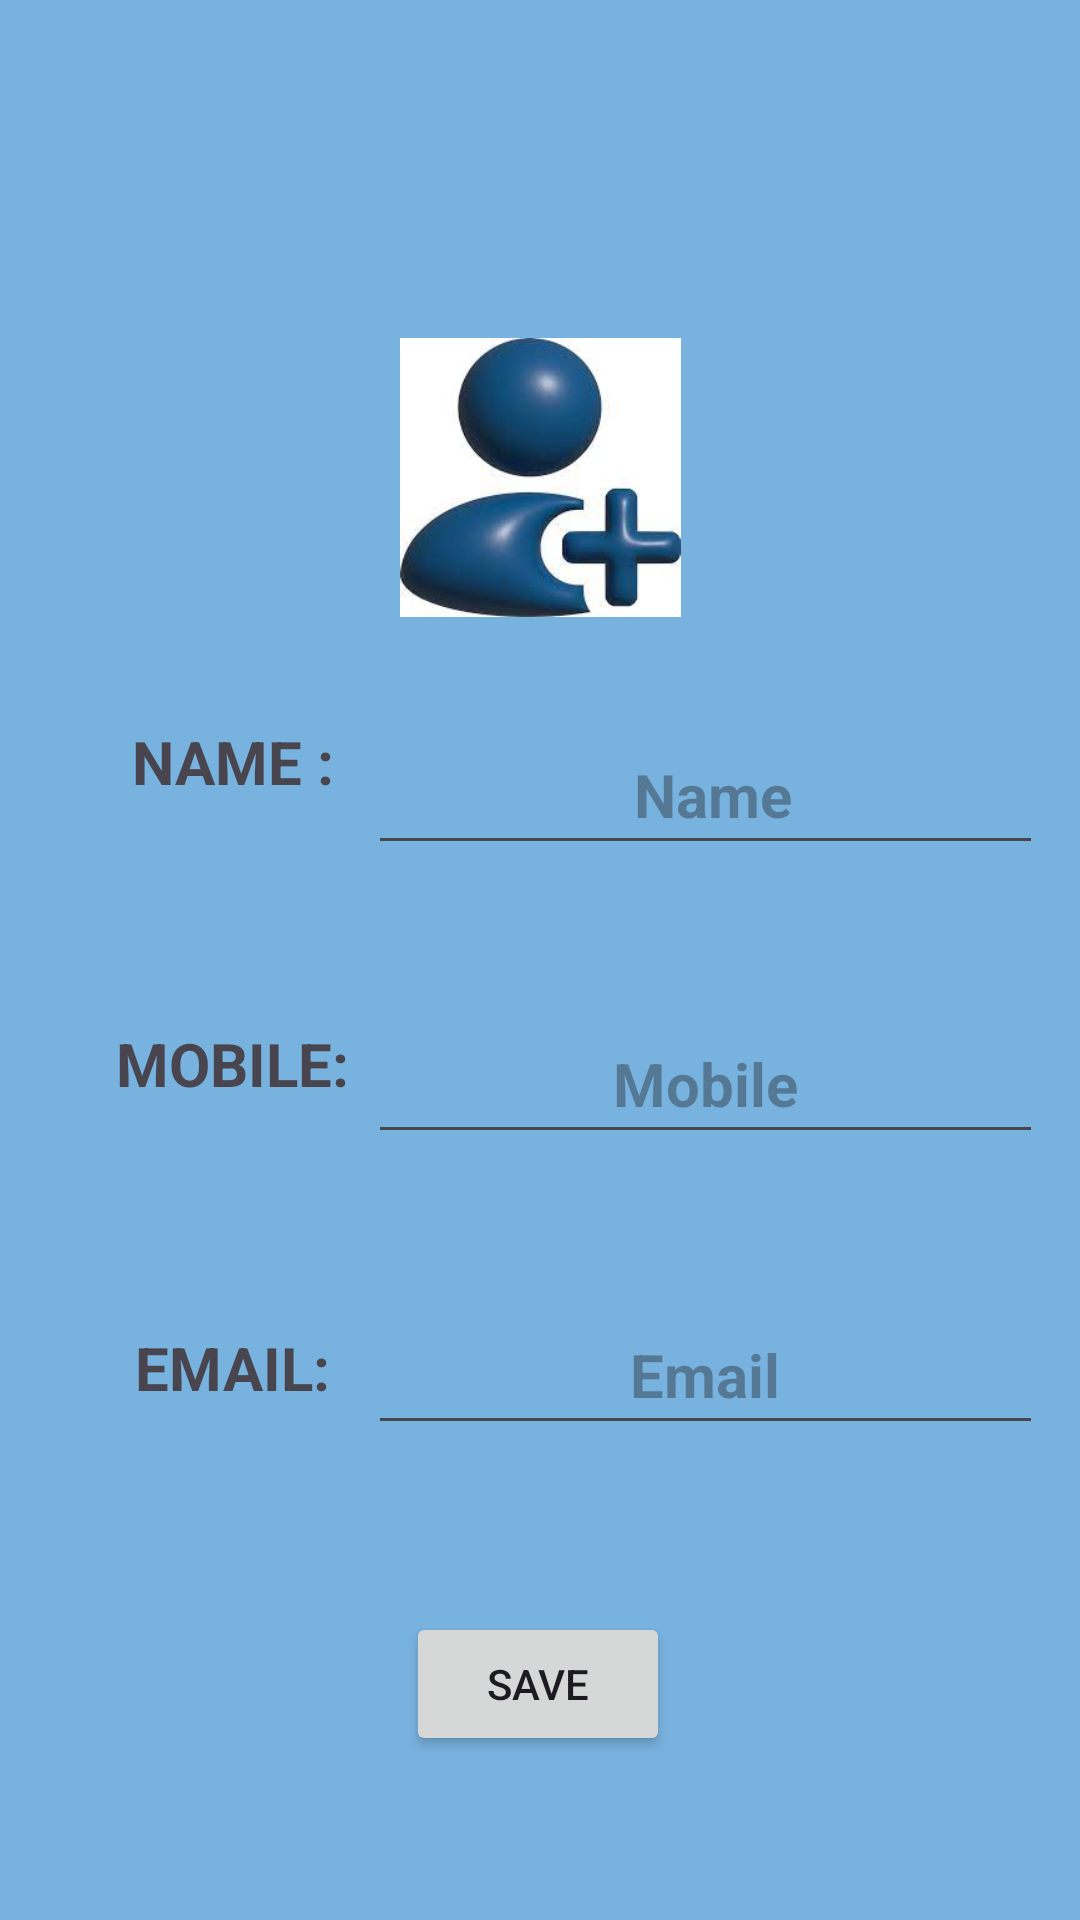

Locate icon controls on the screen. Image size 1080 × 1920, boxes as (x1=x1, y1=y1, x2=x2, y2=y2).
add: (x1=400, y1=338, x2=681, y2=617)
